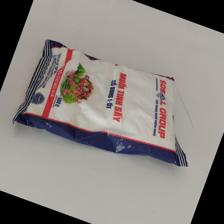Salt: (8, 29, 193, 169)
